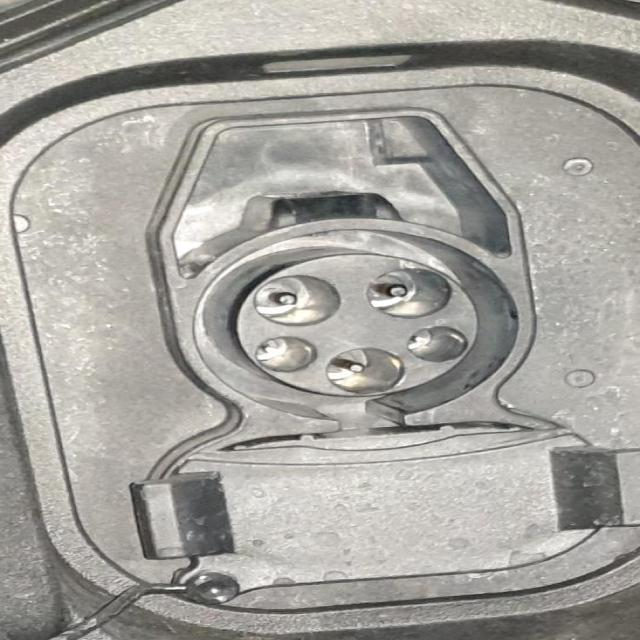Type 1: (199, 234, 520, 410)
